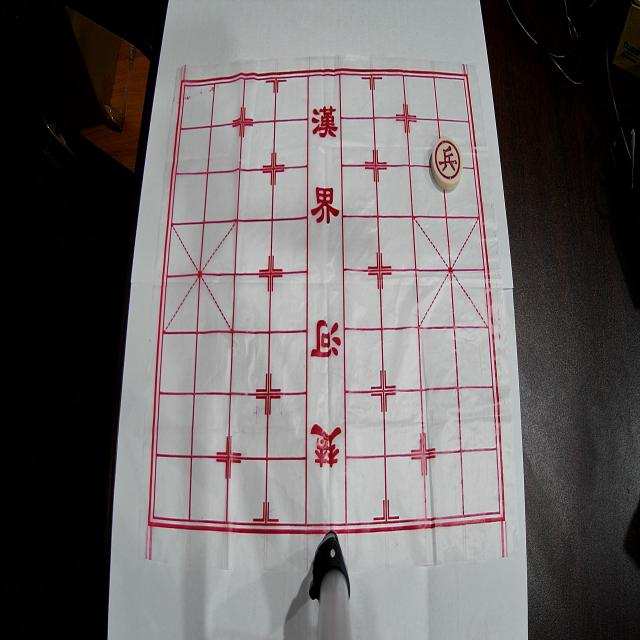red-soldier: (431, 137, 463, 191)
